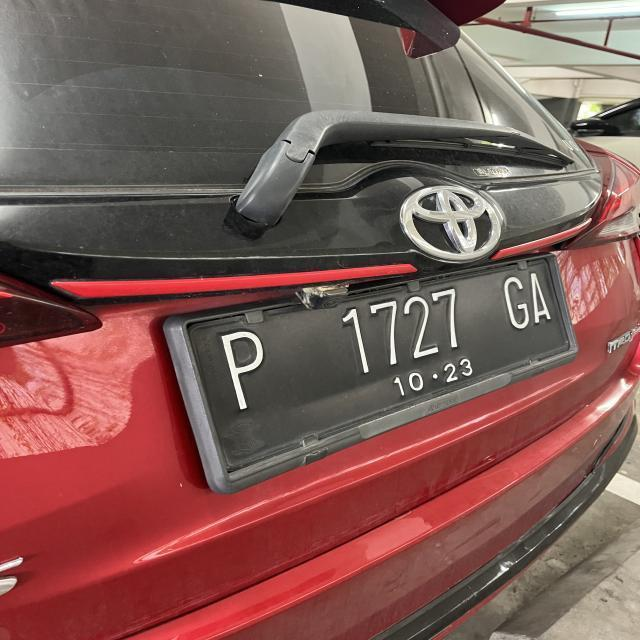1: (330, 306, 370, 380)
2: (402, 291, 437, 364)
7: (371, 296, 402, 372), (438, 288, 468, 350)
A: (530, 269, 558, 331)
G: (498, 274, 530, 336)
P: (218, 325, 271, 415)
